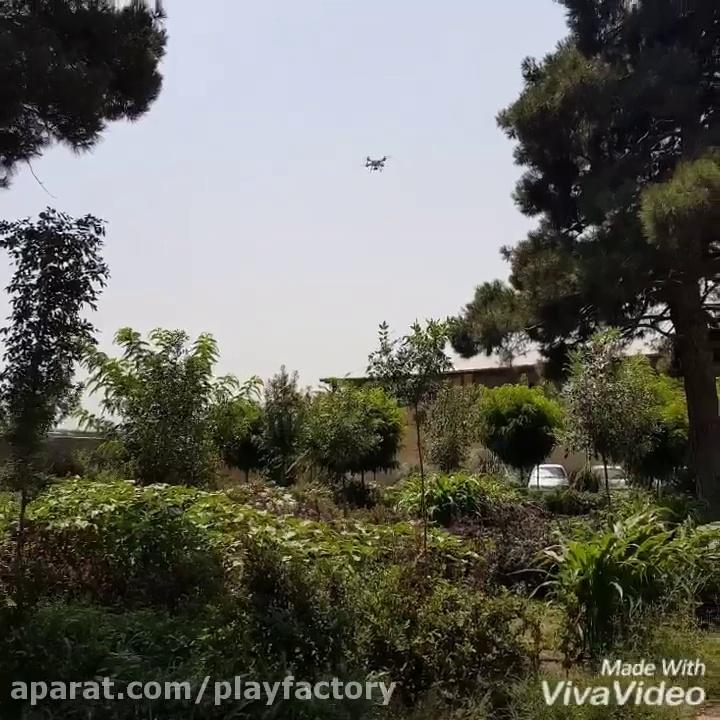drone: (357, 148, 395, 175)
